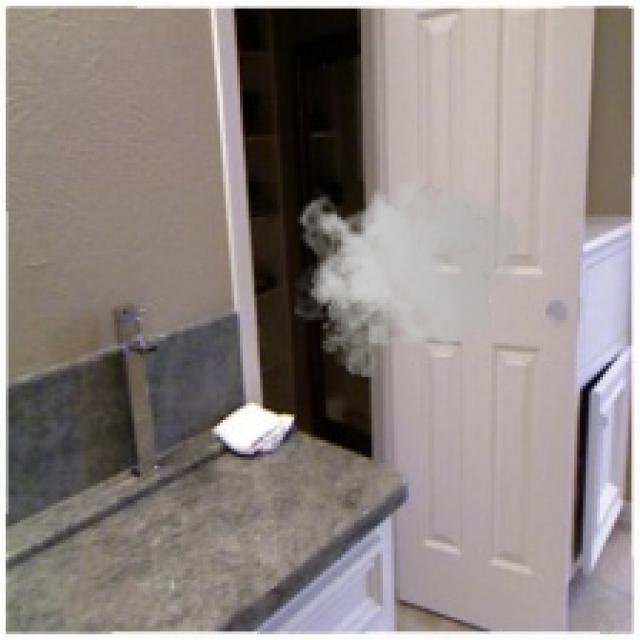smoke: (294, 157, 523, 377)
